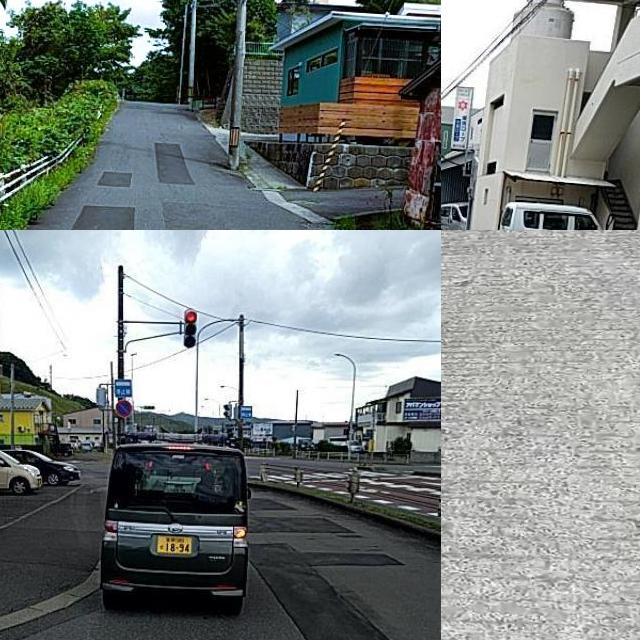Sambungan: (441, 230, 640, 640), (247, 544, 389, 640), (152, 139, 192, 184), (300, 551, 404, 566), (103, 168, 134, 190)
